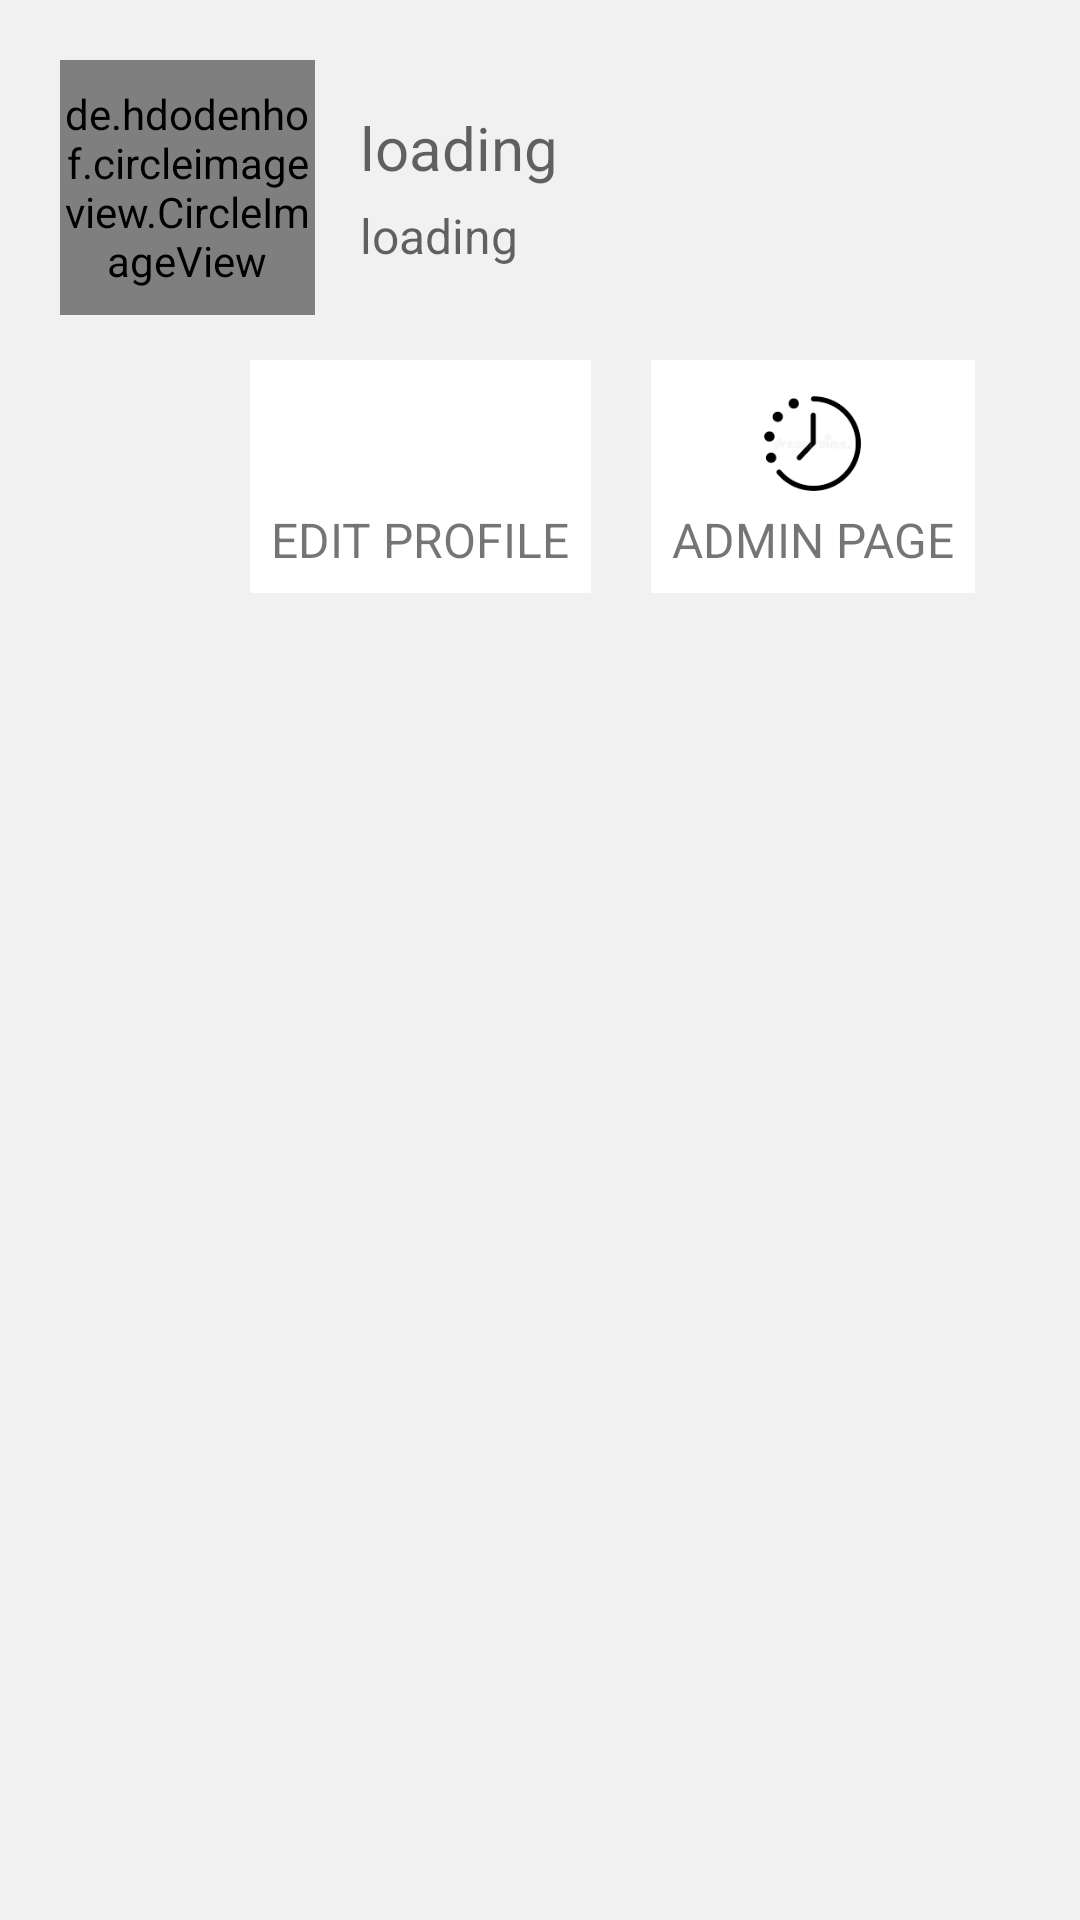

Icon click points for this 1080px x 1920px phone screenshot, format (x,y):
history: (812,443)
